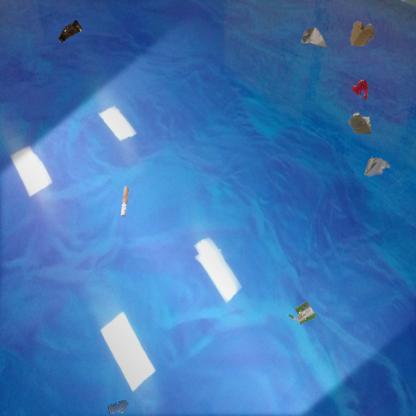dirty: (286, 299, 318, 328), (348, 20, 378, 48), (56, 18, 85, 46), (300, 25, 330, 50), (364, 154, 392, 178), (347, 112, 372, 134), (119, 184, 131, 218)
liquid: (106, 399, 130, 415), (350, 79, 368, 100)
